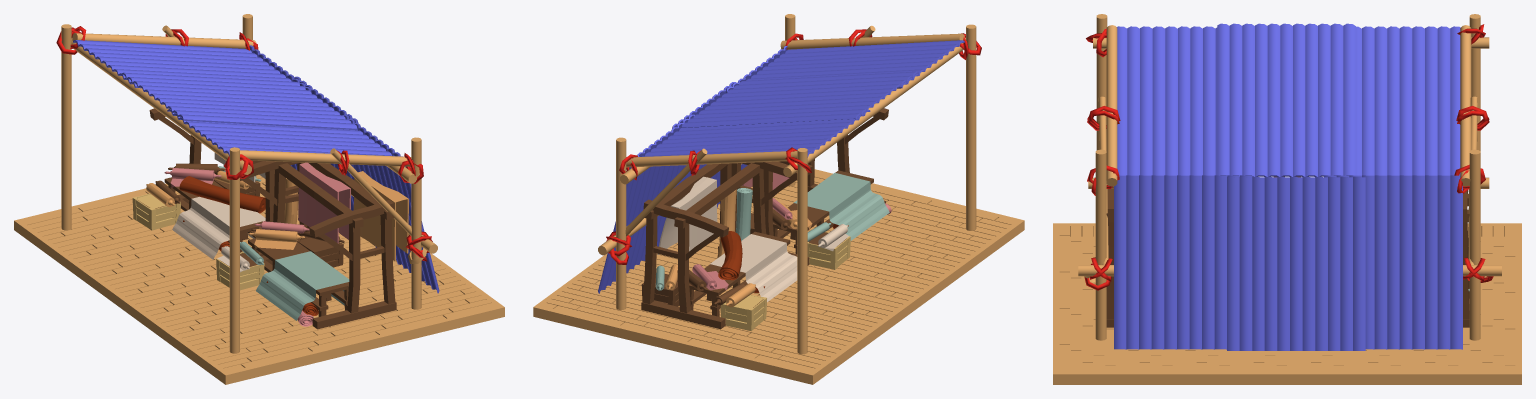
Rendered from Cloth.fbx.
3 renders of one model, left to right at view 1: azimuth 30°, elevation 25°; view 2: azimuth 150°, elevation 25°; view 3: azimuth 270°, elevation 25°, orthographic. The views are drawn at different scales.
Parts seen in each view (by area): view 1: Cube.016; view 2: Cube.016; view 3: Cube.016.
Boxes of the visible parts, <box> form: Cube.016: <box>14,14,504,384</box>; Cube.016: <box>533,14,1024,384</box>; Cube.016: <box>1053,14,1521,384</box>.
Size of the model in its own units: 592 by 428 by 777.
